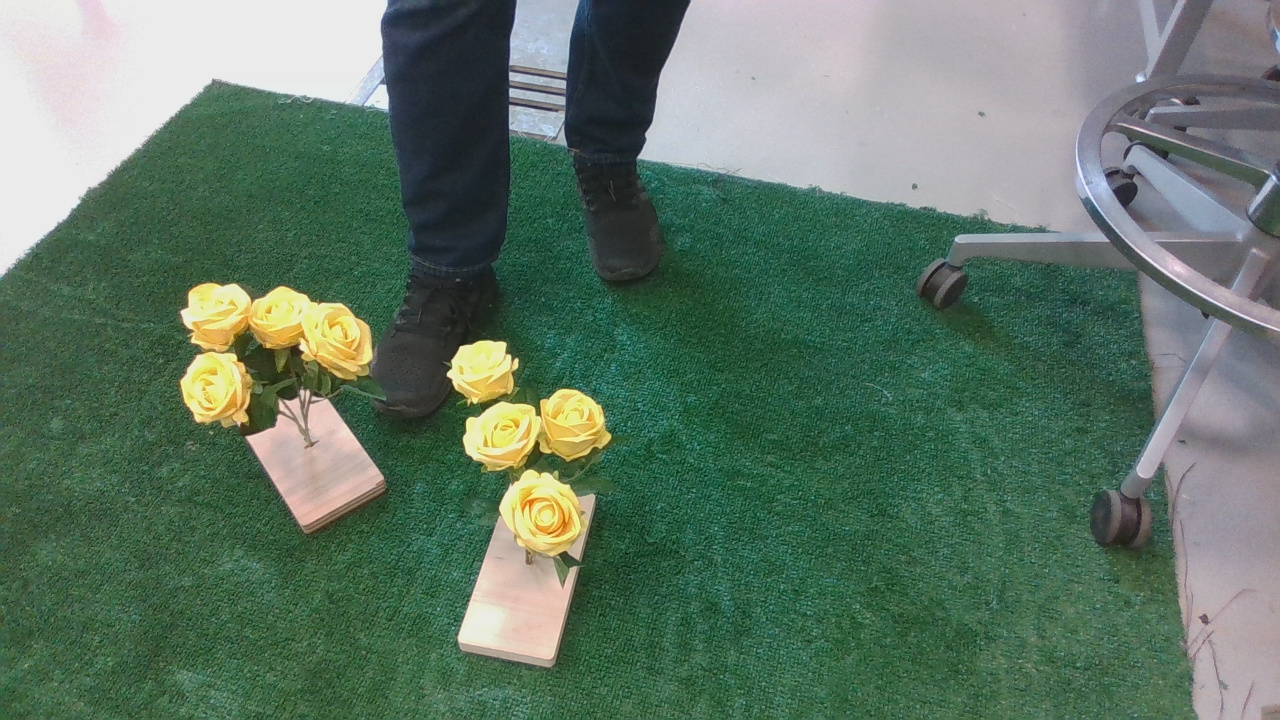rose: (452, 332, 627, 594), (157, 274, 400, 456)
